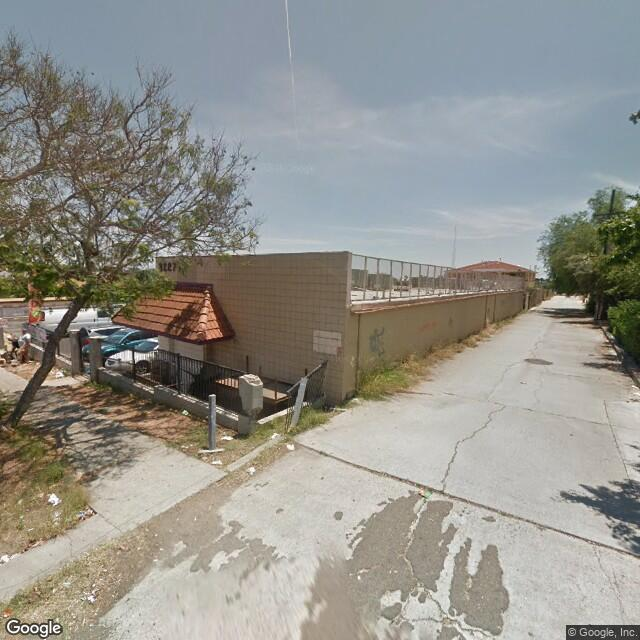litter: (245, 463, 259, 475), (281, 441, 296, 452), (50, 492, 59, 508)
